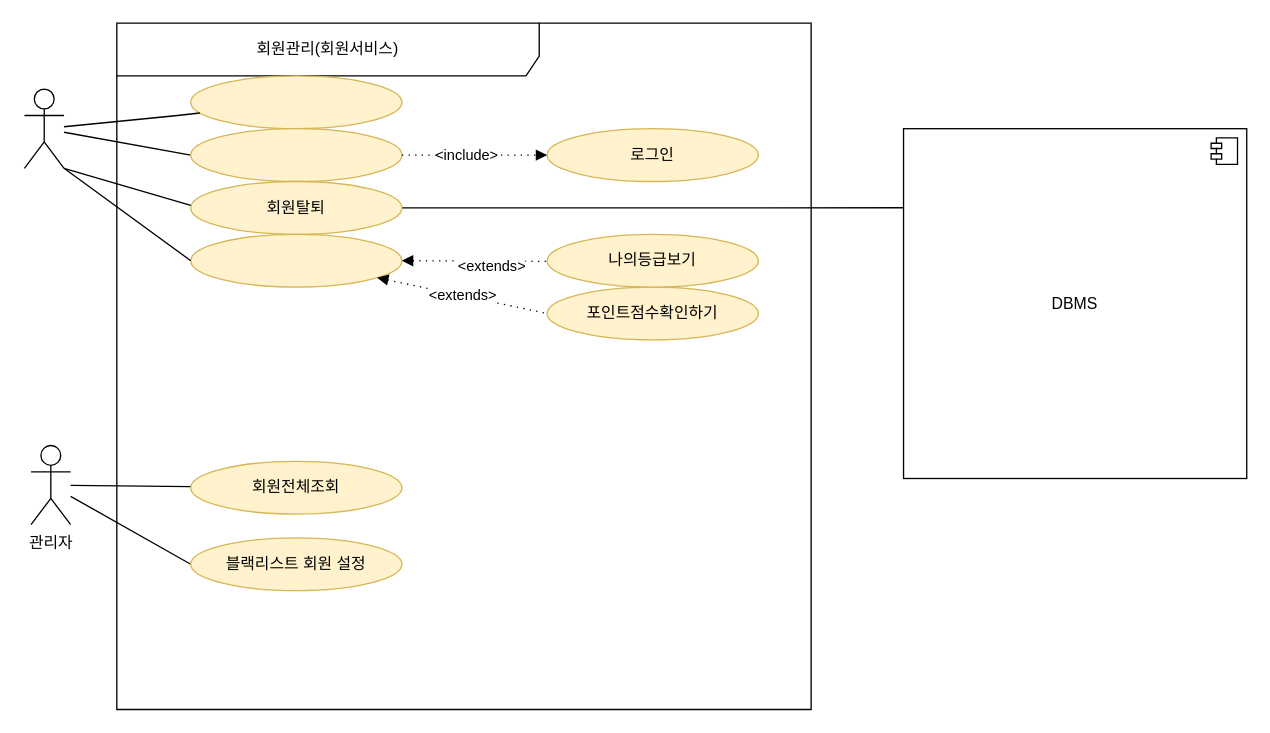
Image size: 1270x733. Some labels were removed from this diagram. The centre of each missing label's shape, as x and y in pixels:
"이용자" belongs at [43,128].
"회원등록" belongs at [295,102].
"회원정보보기" belongs at [295,260].
"회원정보수정" belongs at [295,154].
